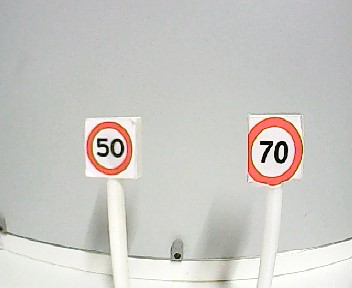50-bord: (86, 121, 133, 175)
70-bord: (248, 117, 303, 185)
